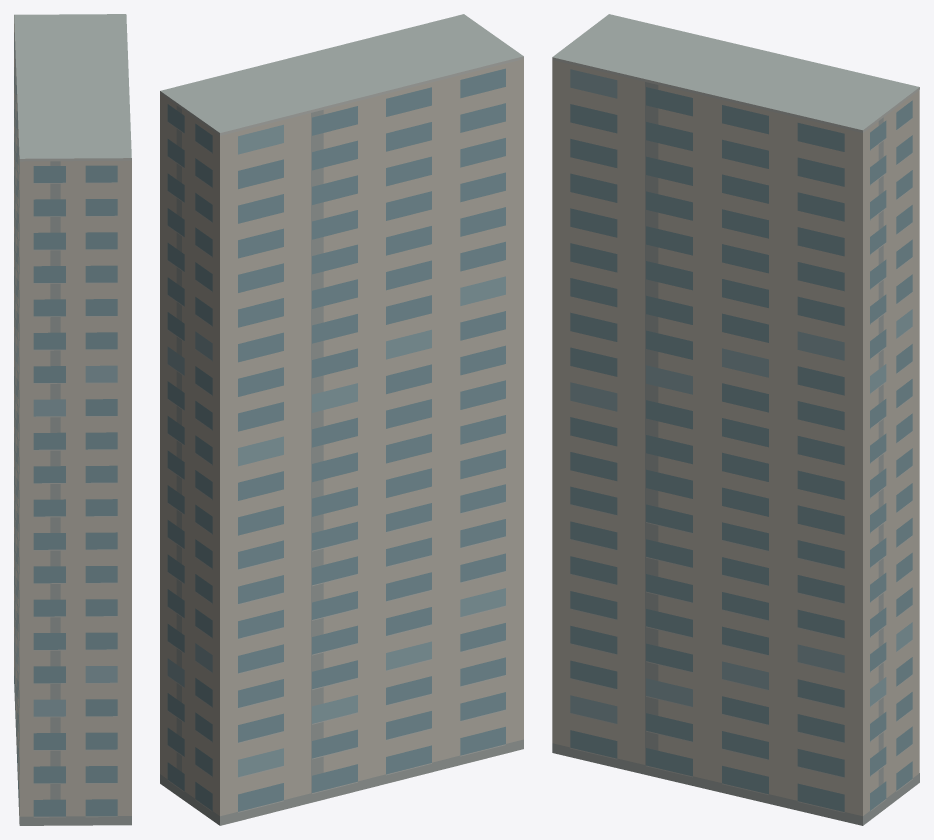
Rendered from residential-199adf41-5684-476b-b544-c280fc8d1bb8.glb.
3 views of the same model, side by side, from view 1: azimuth 30°, elevation 25°; view 2: azimuth 150°, elevation 25°; view 3: azimuth 270°, elevation 25° (orthographic). The views are drawn at different scales.
Visible parts, largest first — view 1: residential-199adf41-5684-476b-b544-c280fc8d1bb8.tmp; view 2: residential-199adf41-5684-476b-b544-c280fc8d1bb8.tmp; view 3: residential-199adf41-5684-476b-b544-c280fc8d1bb8.tmp.
Part boxes in pixels (x1,y1,x2,y2): residential-199adf41-5684-476b-b544-c280fc8d1bb8.tmp: (14, 14, 131, 825); residential-199adf41-5684-476b-b544-c280fc8d1bb8.tmp: (160, 14, 523, 825); residential-199adf41-5684-476b-b544-c280fc8d1bb8.tmp: (552, 14, 919, 825).
Bounding box in the file's own units: 21.88 × 61 × 29.22.
